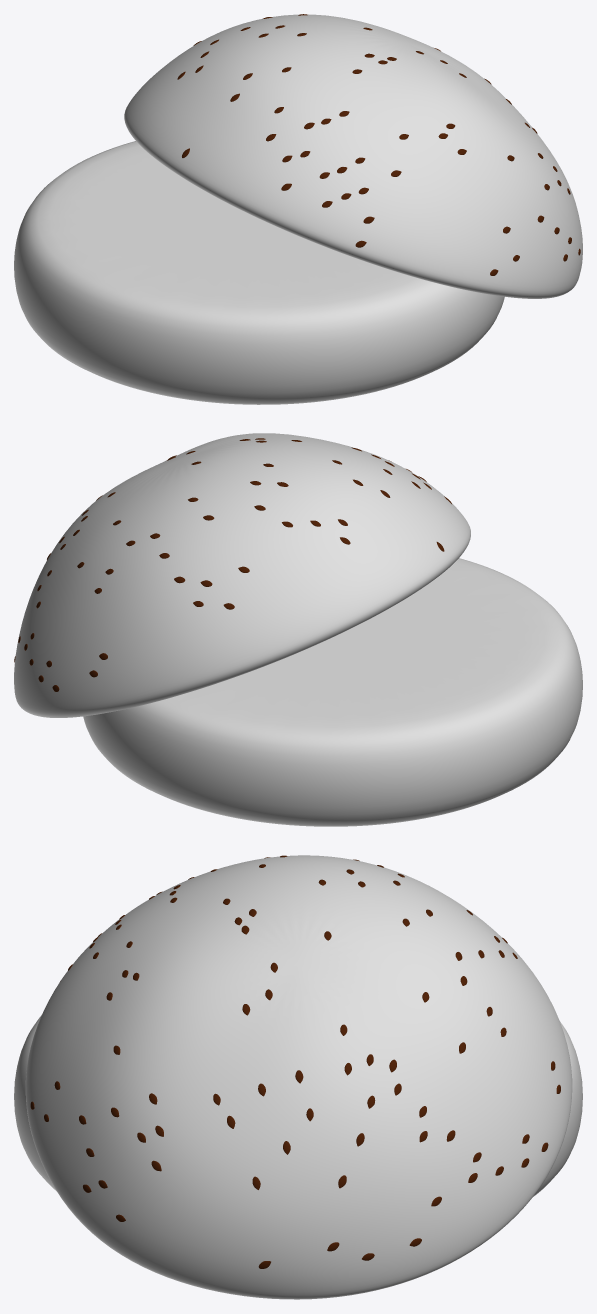
The model's file is Burger.fbx.
3 views of the same model, one above another, from view 1: azimuth 30°, elevation 25°; view 2: azimuth 150°, elevation 25°; view 3: azimuth 270°, elevation 25° (orthographic). The views are drawn at different scales.
Parts seen in each view (by area): view 1: Top bread, Bottom bread; view 2: Top bread, Bottom bread; view 3: Top bread, Bottom bread.
Boxes of the visible parts, box(x1,y1,x2,y2) form: Top bread: box(124, 14, 582, 298); Bottom bread: box(14, 141, 504, 404); Top bread: box(14, 433, 470, 717); Bottom bread: box(83, 558, 582, 826); Top bread: box(25, 855, 572, 1299); Bottom bread: box(14, 1015, 582, 1196).
Size of the model in its own units: 243 by 121 by 209.
